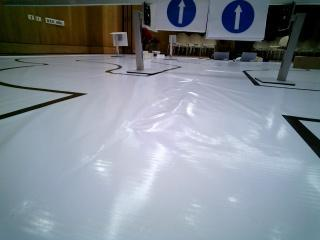straight: (211, 0, 266, 40), (148, 0, 208, 32)
